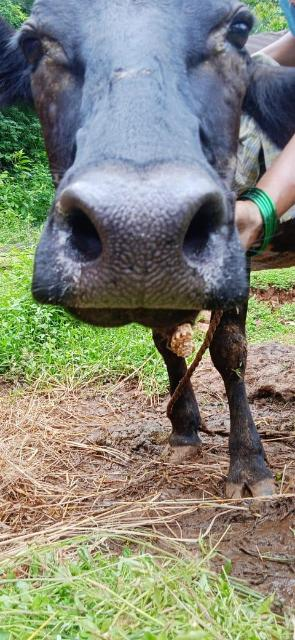Muzzle: (70, 188, 206, 314)
